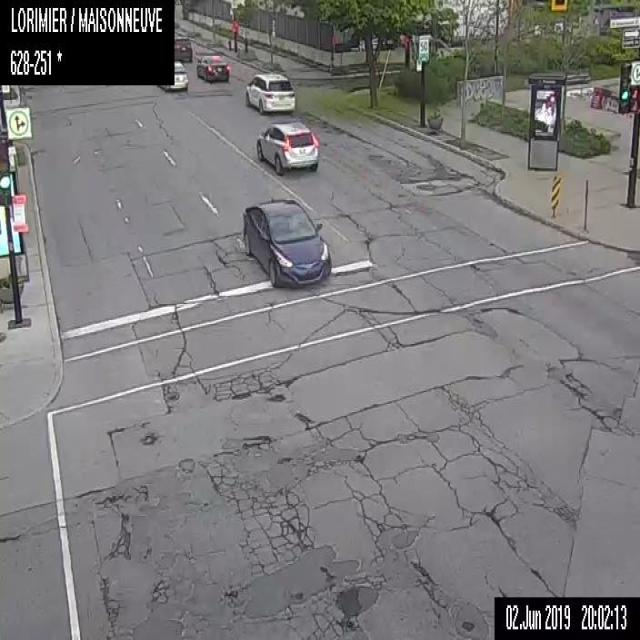vehicle: (241, 196, 331, 286), (255, 120, 319, 174), (244, 69, 296, 114), (156, 59, 188, 91), (195, 54, 229, 82), (173, 36, 191, 62)
